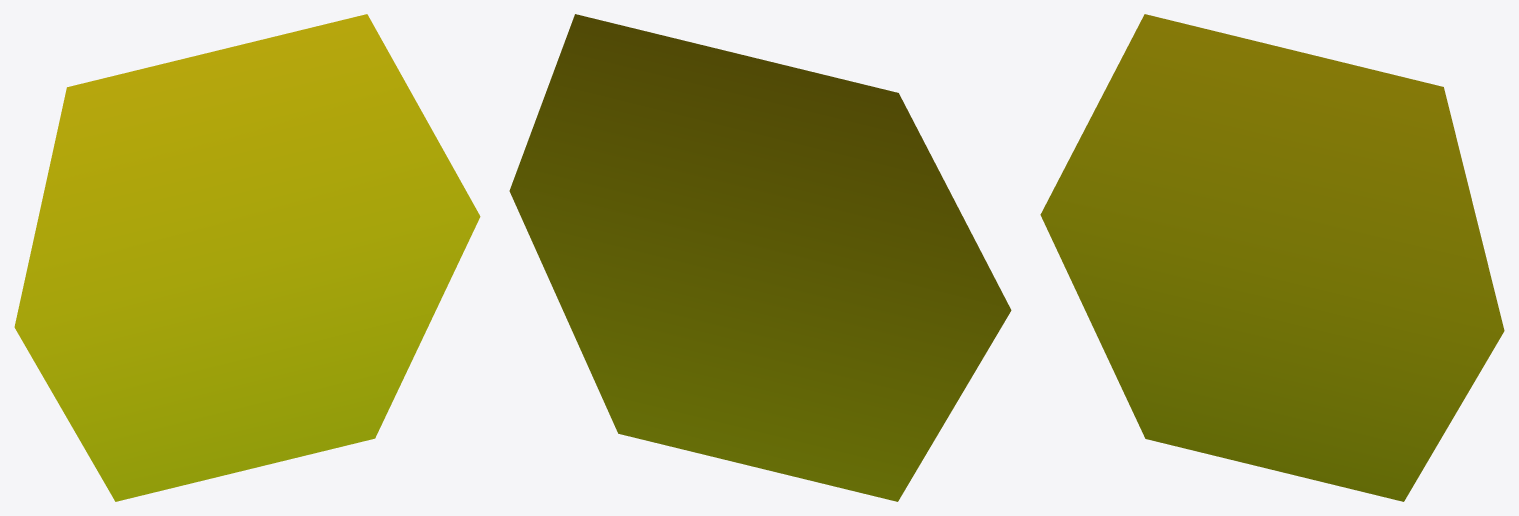
The model's file is pumpkinRegularGlow.glb.
The picture shows the model from 3 angles, left to right: view 1: azimuth 30°, elevation 25°; view 2: azimuth 150°, elevation 25°; view 3: azimuth 330°, elevation 25°; orthographic projection. The views are drawn at different scales.
Parts seen in each view (by area): view 1: pumpkinRegularGlow; view 2: pumpkinRegularGlow; view 3: pumpkinRegularGlow.
Part boxes in pixels (bbox=[...]): pumpkinRegularGlow: bbox=[14, 14, 480, 501]; pumpkinRegularGlow: bbox=[509, 14, 1011, 501]; pumpkinRegularGlow: bbox=[1040, 14, 1504, 501].
Size of the model in its own units: 0.2972 by 0.2457 by 0.0288.
